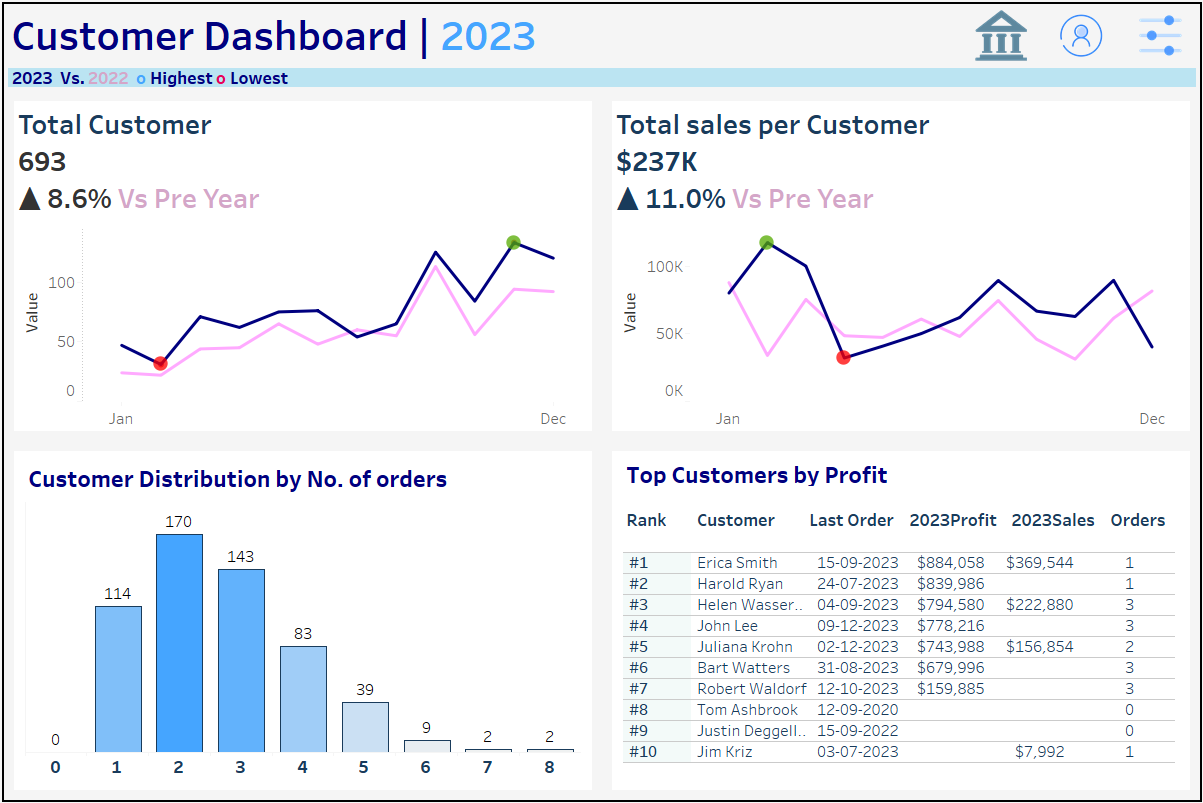

The page's visual inventory and layout, read from the dashboard file:
{"tool":"tableau","page":{"name":"Customer Dashboard","canvas":[1200,800],"ordinal":0},"visuals":[{"type":"text","box":[2,2,1196,60]},{"type":"dashboard-object","box":[959,3,80,60]},{"type":"dashboard-object","box":[1039,3,80,60]},{"type":"dashboard-object","box":[1119,3,79,60]},{"type":"blank","box":[977,12,210,69]},{"type":"worksheet","title":"Legend Kpi","mark":"Automatic","box":[2,62,1196,27]},{"type":"text","box":[977,81,210,40]},{"type":"worksheet","title":"KPI Customer","mark":"Automatic","rows":["Calculation_1038361196874223620"],"cols":["Order Date"],"box":[2,89,598,350]},{"type":"worksheet","title":"KPI Sales per Customer","mark":"Automatic","rows":["Calculation_1038361196884041738"],"cols":["Order Date"],"box":[600,89,598,350]},{"type":"parameter","param":"[Parameters].[Parameter 1]","box":[977,121,210,56]},{"type":"text","box":[977,177,210,36]},{"type":"filter","title":"KPI Customer","param":"[federated.0e05pr401x41y715u6nhp13y2g21].[none:Category:nk]","box":[977,213,210,61]},{"type":"filter","title":"KPI Customer","param":"[federated.0e05pr401x41y715u6nhp13y2g21].[none:Sub-Category:nk]","box":[977,274,210,61]},{"type":"blank","box":[977,335,210,62]},{"type":"text","box":[977,397,210,36]},{"type":"filter","title":"KPI Customer","param":"[federated.0e05pr401x41y715u6nhp13y2g21].[none:Region:nk]","box":[977,433,210,61]},{"type":"text","box":[19,456,564,40]},{"type":"text","box":[617,456,564,32]},{"type":"text","box":[617,488,51,58]},{"type":"text","box":[668,488,132,58]},{"type":"text","box":[800,488,100,58]},{"type":"text","box":[900,488,102,58]},{"type":"text","box":[1002,488,99,58]},{"type":"text","box":[1101,488,80,58]},{"type":"filter","title":"KPI Customer","param":"[federated.0e05pr401x41y715u6nhp13y2g21].[none:State:nk]","box":[977,494,210,61]},{"type":"worksheet","title":"Customer Distribution","mark":"Bar","rows":["Calculation_1038361196868780032"],"cols":["Calculation_1176846886067236864"],"box":[19,496,564,285]},{"type":"worksheet","title":"Top Customer","mark":"Automatic","rows":["Calculation_1176846886093615107","Customer Name","Order Date"],"box":[617,546,564,235]},{"type":"filter","title":"KPI Customer","param":"[federated.0e05pr401x41y715u6nhp13y2g21].[none:City:nk]","box":[977,555,210,61]}]}

Visuals, with their boxes in screenshot pixels (x1, y1, x2, y2), scaled from the page's 1200x800 canvas onto the 1203x803 screenshot:
text: (2,2,1201,62)
dashboard-object: (961,3,1042,63)
dashboard-object: (1042,3,1122,63)
dashboard-object: (1122,3,1201,63)
blank: (979,12,1190,81)
"Legend Kpi" worksheet: (2,62,1201,89)
text: (979,81,1190,121)
"KPI Customer" worksheet: (2,89,602,441)
"KPI Sales per Customer" worksheet: (602,89,1201,441)
parameter: (979,121,1190,178)
text: (979,178,1190,214)
"KPI Customer" filter: (979,214,1190,275)
"KPI Customer" filter: (979,275,1190,336)
blank: (979,336,1190,398)
text: (979,398,1190,435)
"KPI Customer" filter: (979,435,1190,496)
text: (19,458,584,498)
text: (619,458,1184,490)
text: (619,490,670,548)
text: (670,490,802,548)
text: (802,490,902,548)
text: (902,490,1005,548)
text: (1005,490,1104,548)
text: (1104,490,1184,548)
"KPI Customer" filter: (979,496,1190,557)
"Customer Distribution" worksheet (Bar marks): (19,498,584,784)
"Top Customer" worksheet: (619,548,1184,784)
"KPI Customer" filter: (979,557,1190,618)
